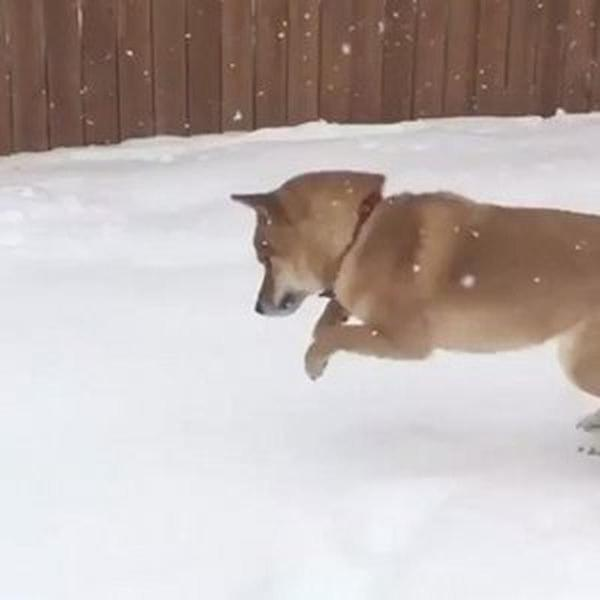allqu: (212, 162, 600, 463)
